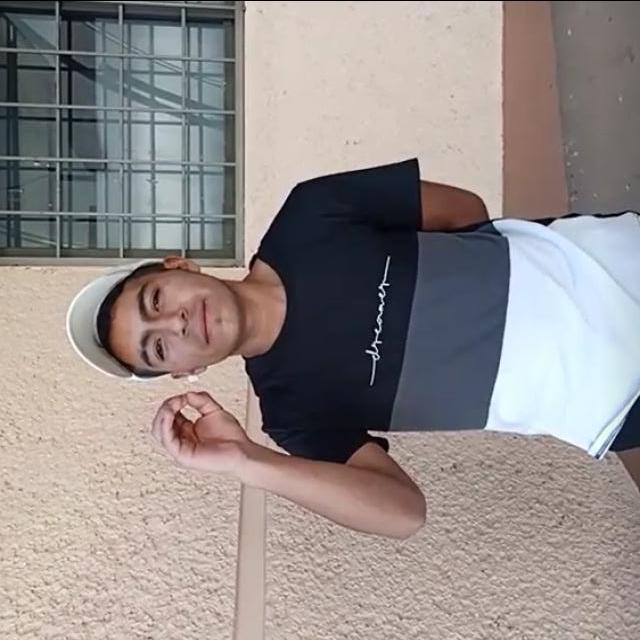O: (136, 366, 268, 496)
